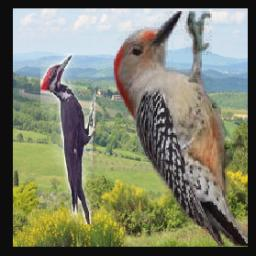Woodpecker: (114, 11, 248, 246), (39, 53, 95, 224)
